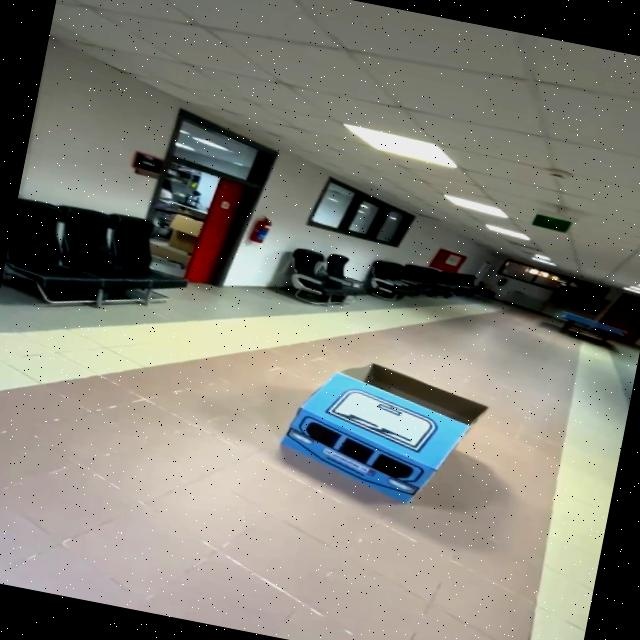blue_car: (241, 333, 520, 524)
